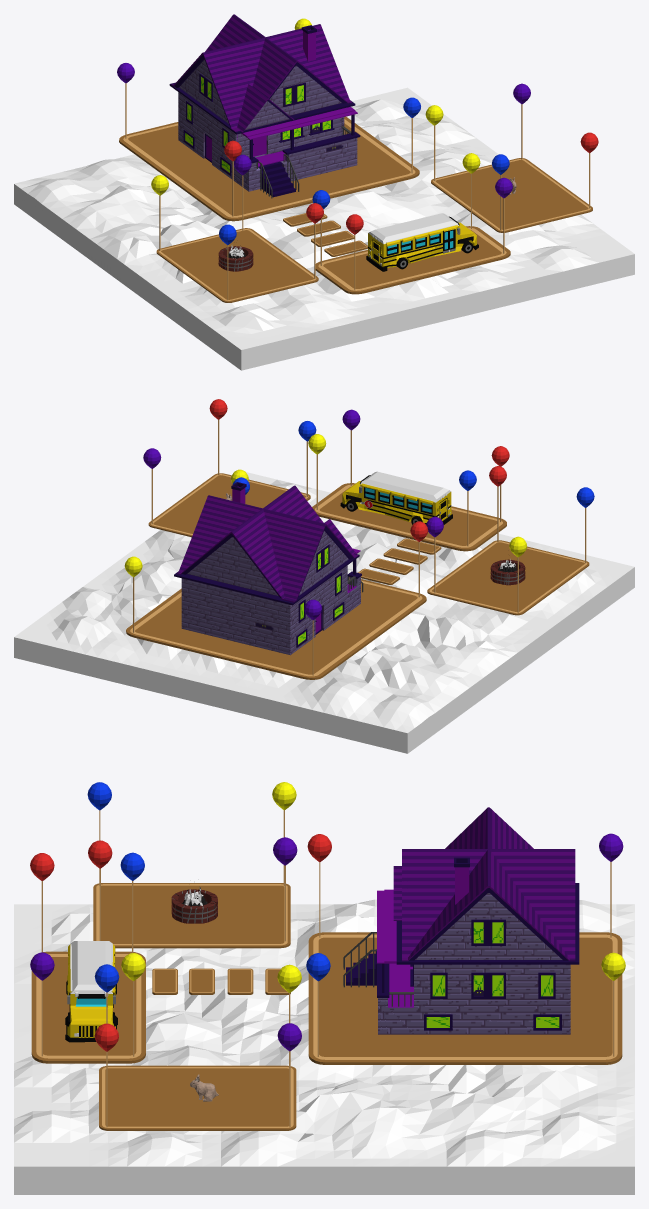
3 renders of one model, top to bottom at view 1: azimuth 30°, elevation 25°; view 2: azimuth 150°, elevation 25°; view 3: azimuth 270°, elevation 25°, orthographic. The views are drawn at different scales.
Visible parts, largest first — view 1: Cube.013, Cube.039, VEHICLES_SCHOOL_BUS, OBJRANDOM_CAMPFIRE; view 2: Cube.013, Cube.039, VEHICLES_SCHOOL_BUS, OBJRANDOM_CAMPFIRE; view 3: Cube.013, Cube.039, VEHICLES_SCHOOL_BUS, OBJRANDOM_CAMPFIRE.
Part boxes in pixels (box(x1,y1,x2,y2)): Cube.013: box(14, 18, 634, 370); Cube.039: box(169, 14, 360, 198); VEHICLES_SCHOOL_BUS: box(366, 213, 478, 271); OBJRANDOM_CAMPFIRE: box(218, 244, 253, 271); Cube.013: box(14, 399, 634, 753); Cube.039: box(174, 482, 363, 655); VEHICLES_SCHOOL_BUS: box(340, 471, 452, 524); OBJRANDOM_CAMPFIRE: box(490, 559, 525, 585); Cube.013: box(14, 782, 634, 1194); Cube.039: box(343, 807, 579, 1034); VEHICLES_SCHOOL_BUS: box(65, 941, 117, 1042); OBJRANDOM_CAMPFIRE: box(171, 887, 217, 923).
Size of the model in its own units: 4000 by 1691 by 4000.
Materials: 36 (4 with a texture image).
